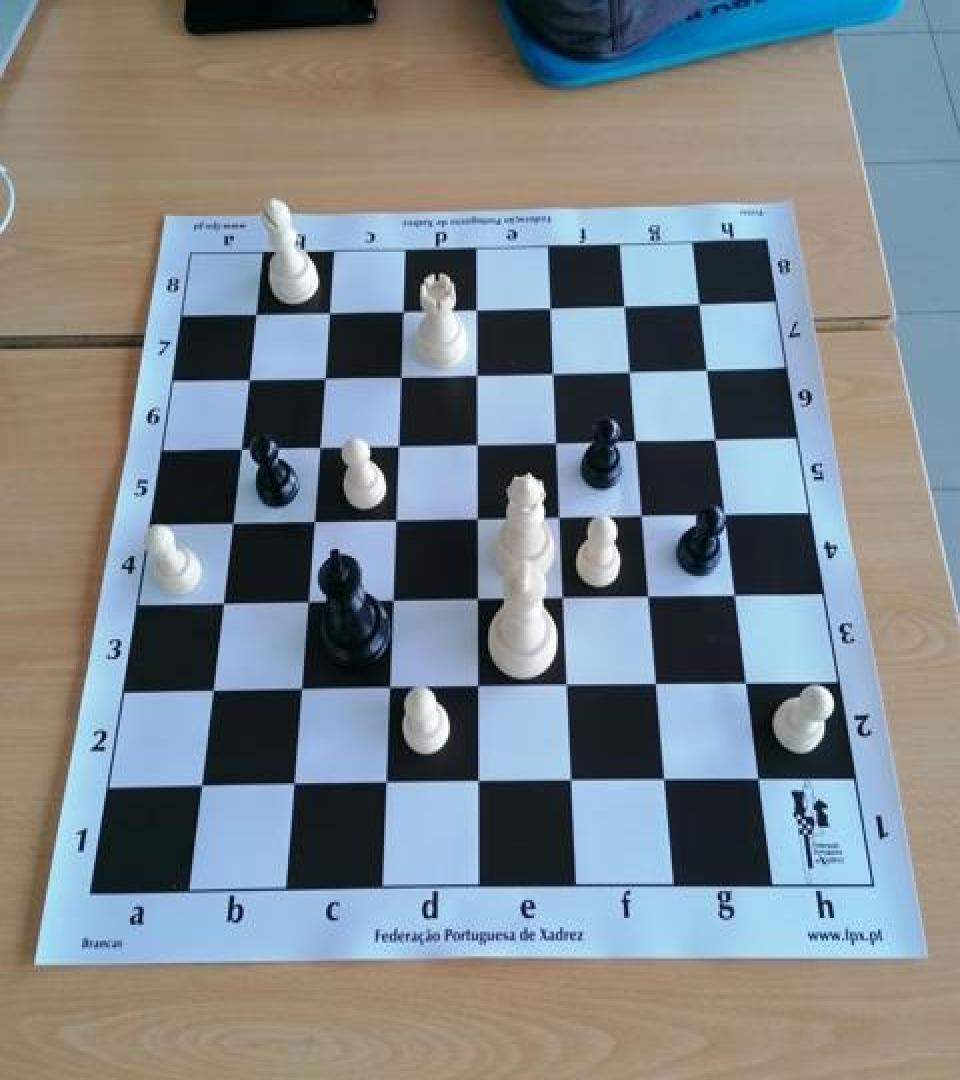xcorner: (635, 581, 667, 618), (642, 669, 674, 706), (722, 580, 754, 617), (732, 669, 764, 706), (241, 296, 273, 332), (233, 361, 265, 397), (225, 431, 257, 467), (216, 505, 248, 541), (207, 586, 239, 622), (196, 673, 228, 709), (185, 767, 217, 803), (314, 294, 346, 330), (309, 359, 341, 395), (303, 428, 335, 464), (298, 504, 330, 540), (291, 585, 323, 621), (284, 673, 316, 709), (277, 767, 309, 803), (388, 292, 420, 328), (385, 358, 417, 394), (382, 428, 414, 464), (379, 503, 411, 539), (376, 584, 408, 620), (373, 672, 405, 708), (369, 767, 401, 803), (462, 292, 494, 328), (462, 356, 494, 392), (462, 426, 494, 462), (462, 502, 494, 538), (462, 583, 494, 619), (462, 672, 494, 708), (462, 766, 494, 802), (536, 289, 568, 325), (539, 356, 571, 392), (542, 425, 574, 461), (545, 500, 577, 536), (548, 583, 580, 619), (551, 670, 583, 706), (555, 766, 587, 802), (611, 288, 643, 324), (617, 353, 649, 389), (622, 424, 654, 460), (628, 500, 660, 536), (649, 766, 681, 802), (687, 287, 719, 323), (694, 352, 726, 388), (703, 423, 735, 459), (712, 498, 744, 534), (744, 765, 776, 801)
